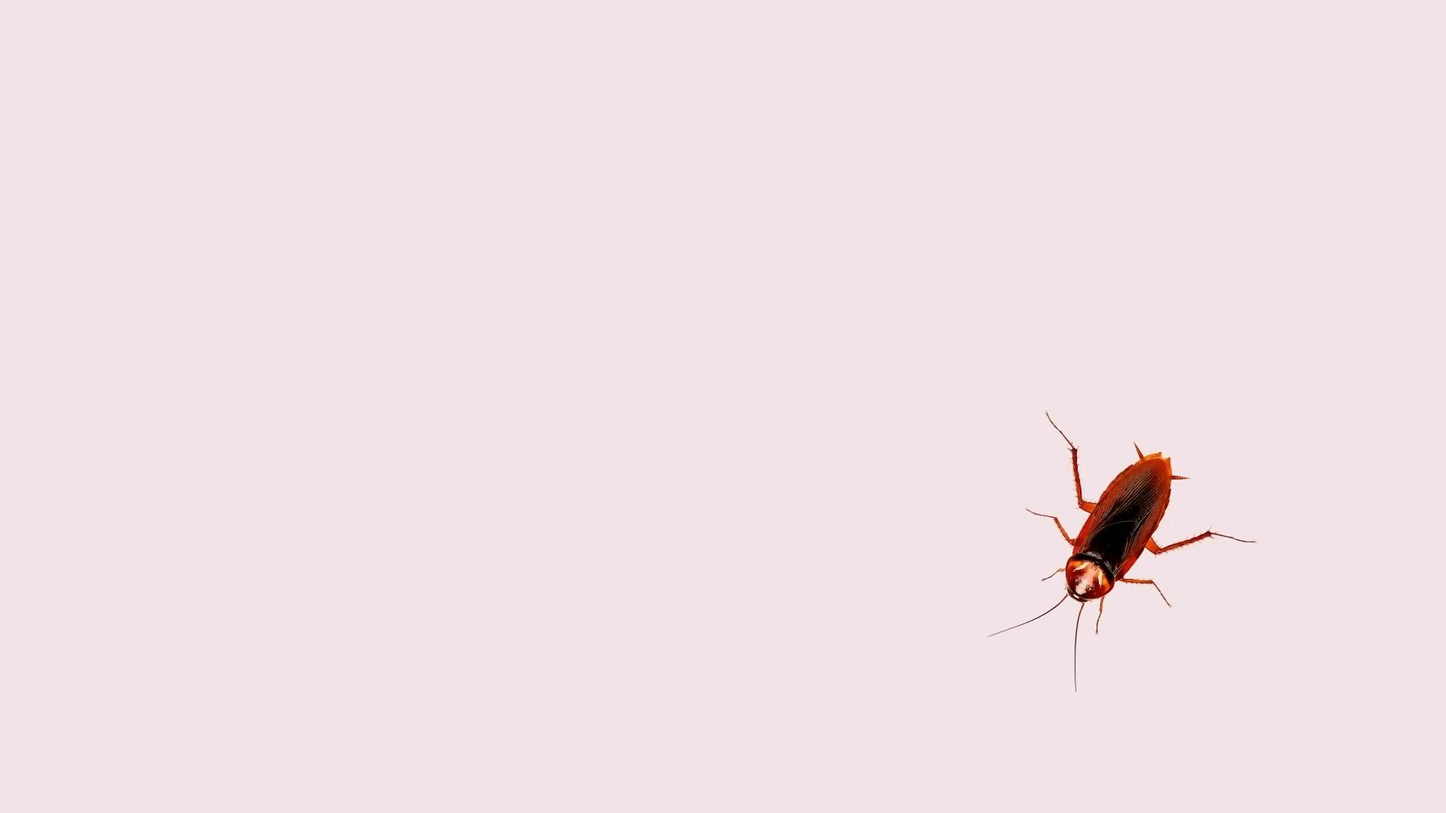cockroach: (977, 403, 1258, 695)
